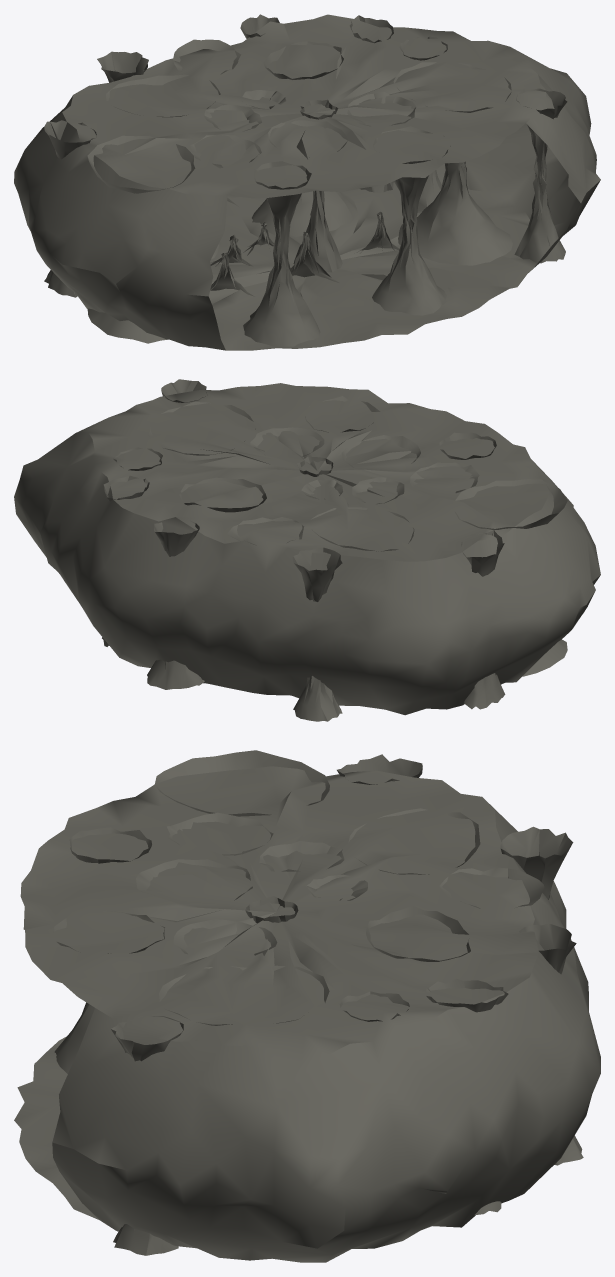
3 views of the same model, one above another, from view 1: azimuth 30°, elevation 25°; view 2: azimuth 150°, elevation 25°; view 3: azimuth 270°, elevation 25° (orthographic). The views are drawn at different scales.
Parts seen in each view (by area): view 1: CAVERN; view 2: CAVERN; view 3: CAVERN.
Part boxes in pixels (x1,y1,x2,y2): CAVERN: (14,14,600,350); CAVERN: (14,379,600,721); CAVERN: (14,750,600,1262).
Bounding box in the file's own units: 1 × 0.2913 × 0.6726.
Materials: 1 (1 with a texture image).
